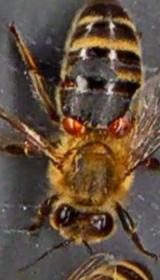varroa_mite: (56, 105, 90, 140), (103, 105, 134, 138)
